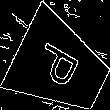P_SE: (33, 39, 89, 95)
